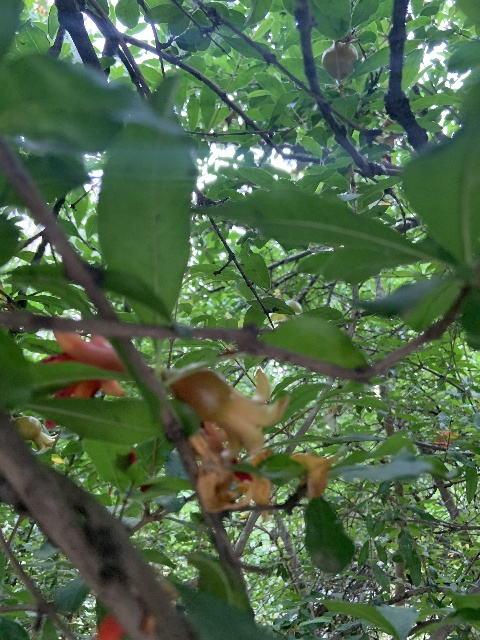early-fruit: (170, 365, 290, 463)
flower: (43, 329, 127, 399)
mid-growth: (320, 28, 363, 79)
